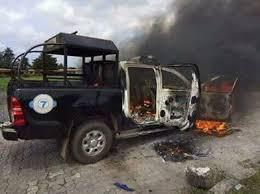fire: (196, 110, 234, 134)
